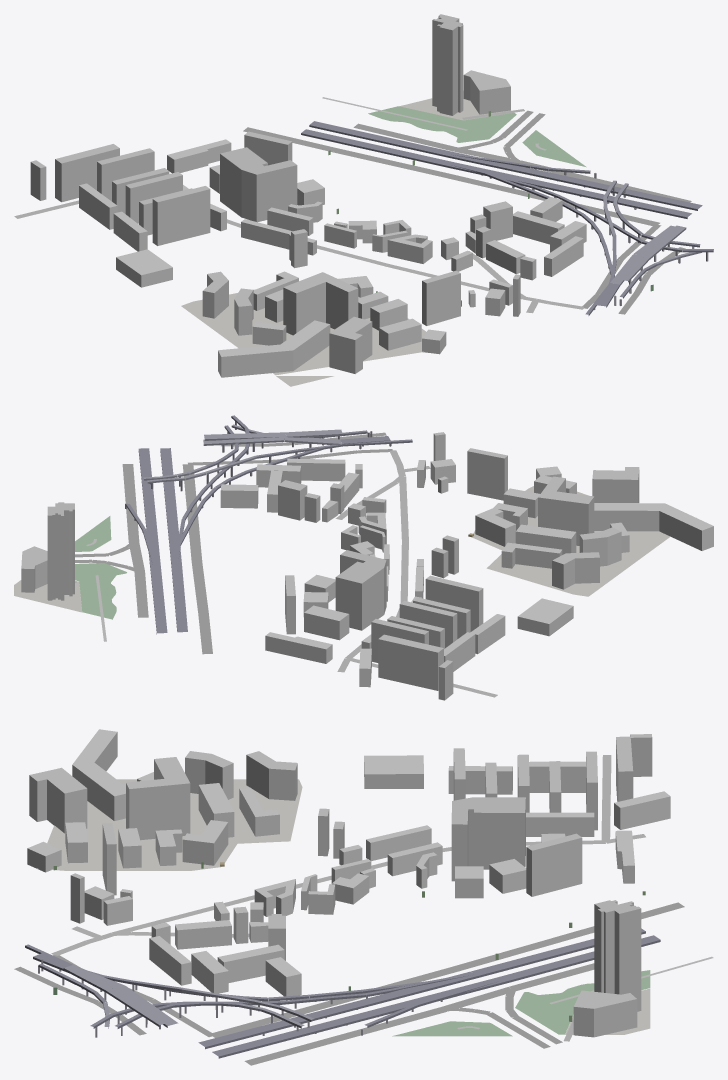
3 views of the same model, one above another, from view 1: azimuth 30°, elevation 25°; view 2: azimuth 150°, elevation 25°; view 3: azimuth 270°, elevation 25° (orthographic). The views are drawn at different scales.
Size of the model in its own units: 600 by 95.99 by 570.
